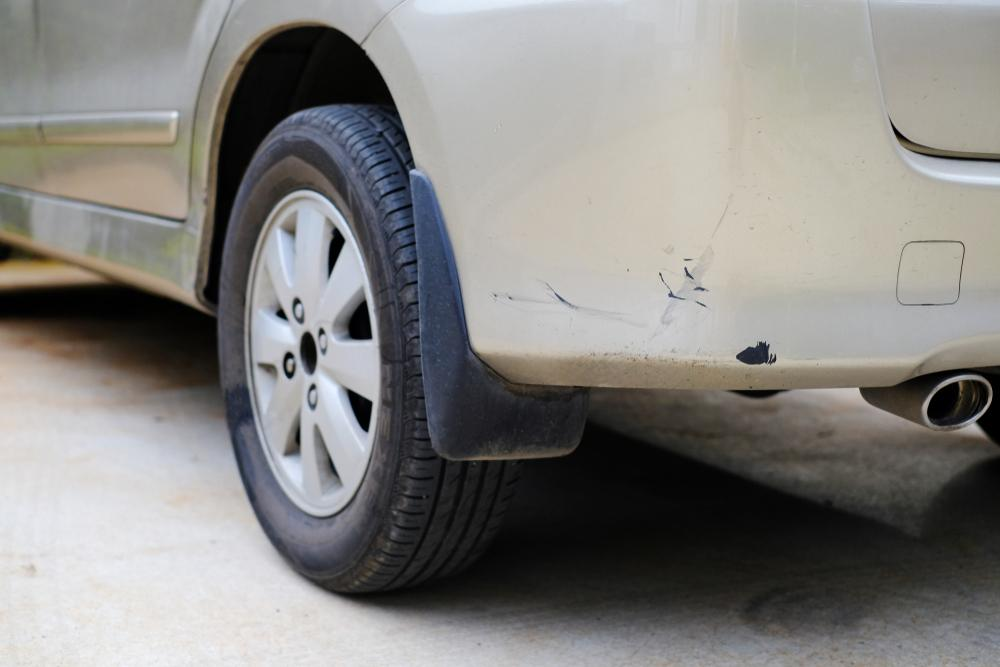scratch: (489, 241, 781, 369)
